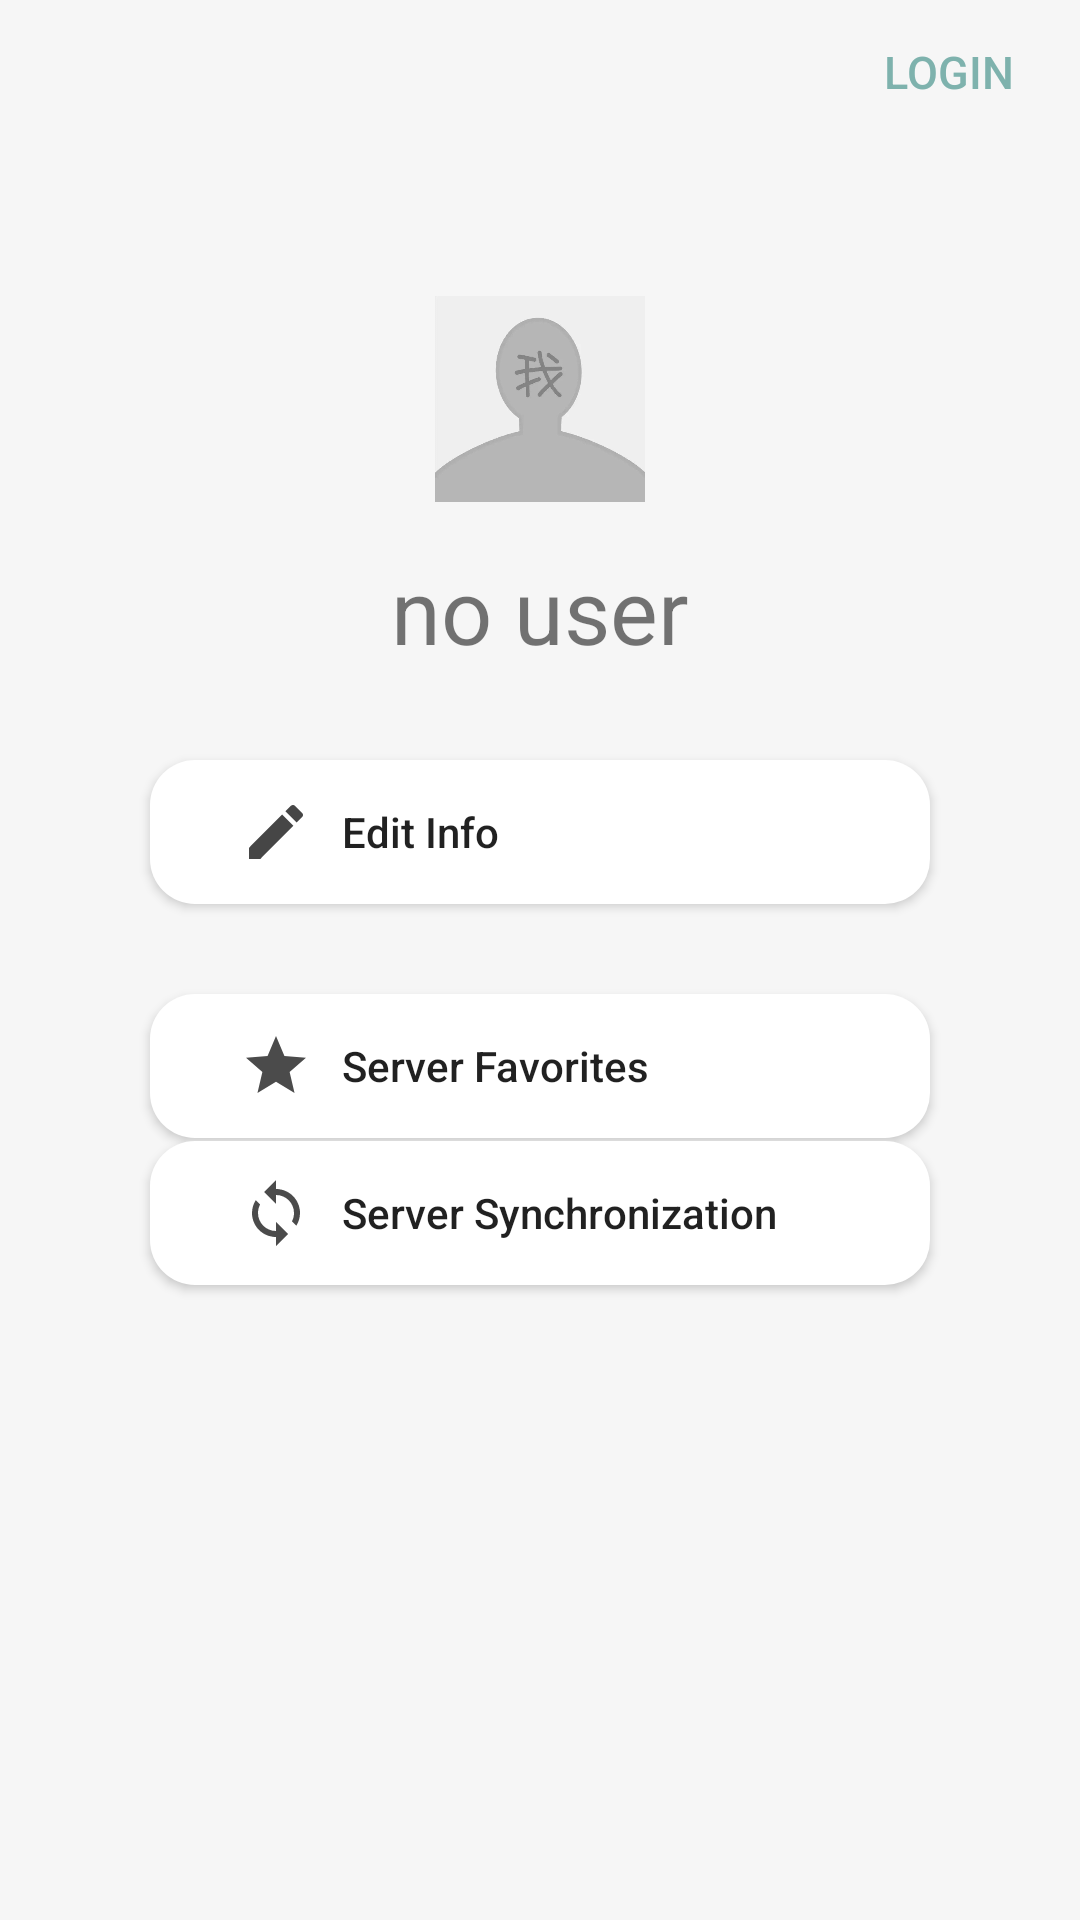

Icon click points for this 1080w x 1920h phone screenshot, format (x=x, y=y):
portrait: (x=540, y=410)
